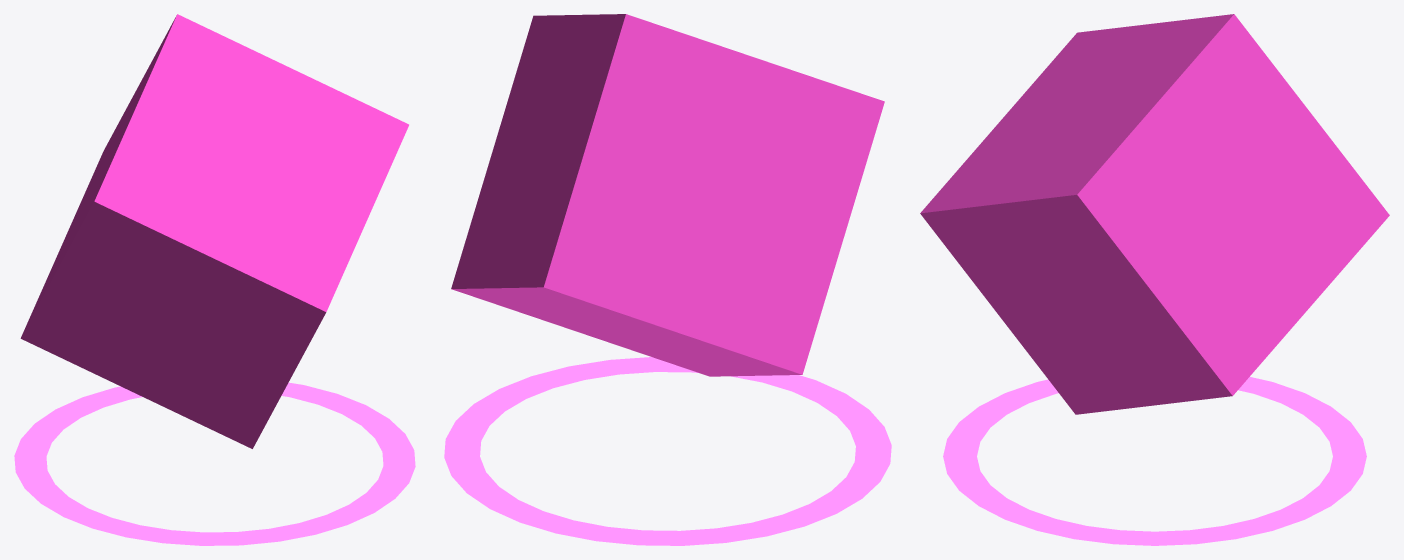
The picture shows the model from 3 angles, left to right: view 1: azimuth 30°, elevation 25°; view 2: azimuth 150°, elevation 25°; view 3: azimuth 270°, elevation 25°; orthographic projection. The views are drawn at different scales.
Parts seen in each view (by area): view 1: emblem_pixel.lod0; view 2: emblem_pixel.lod0; view 3: emblem_pixel.lod0.
Boxes of the visible parts, bbox=[...] form: emblem_pixel.lod0: bbox=[14, 14, 415, 545]; emblem_pixel.lod0: bbox=[444, 14, 891, 545]; emblem_pixel.lod0: bbox=[920, 14, 1389, 545].
Bounding box in the file's own units: 1 × 1.15 × 1.11.
